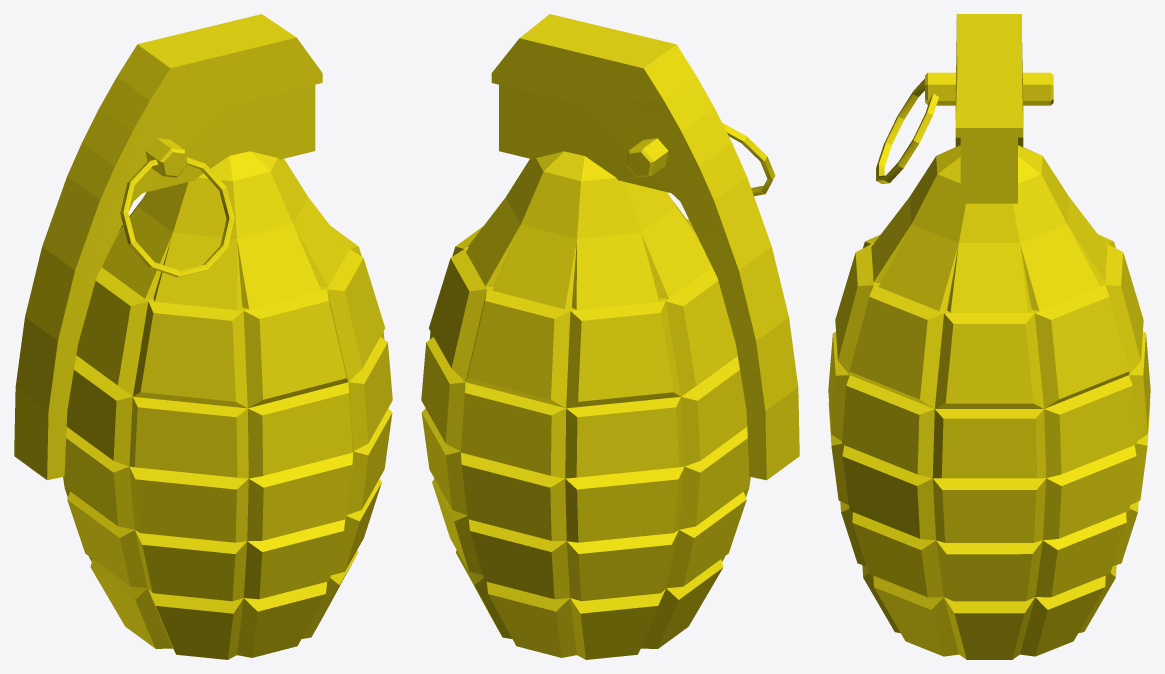
File: Grenade.glb
3 renders of one model, left to right at view 1: azimuth 30°, elevation 25°; view 2: azimuth 150°, elevation 25°; view 3: azimuth 270°, elevation 25°, orthographic.
Parts seen in each view (by area): view 1: SubMesh_0_Diffuse_palette_2_0, SubMesh_0_001_Diffuse_palette_2_0, SubMesh_0_002_Diffuse_palette_2_0; view 2: SubMesh_0_Diffuse_palette_2_0, SubMesh_0_001_Diffuse_palette_2_0, SubMesh_0_002_Diffuse_palette_2_0; view 3: SubMesh_0_Diffuse_palette_2_0, SubMesh_0_001_Diffuse_palette_2_0, SubMesh_0_002_Diffuse_palette_2_0.
Part boxes in pixels (bbox=[...]): SubMesh_0_Diffuse_palette_2_0: bbox=[63, 151, 392, 659]; SubMesh_0_001_Diffuse_palette_2_0: bbox=[14, 14, 322, 480]; SubMesh_0_002_Diffuse_palette_2_0: bbox=[120, 138, 234, 277]; SubMesh_0_Diffuse_palette_2_0: bbox=[421, 151, 750, 659]; SubMesh_0_001_Diffuse_palette_2_0: bbox=[491, 14, 799, 480]; SubMesh_0_002_Diffuse_palette_2_0: bbox=[626, 123, 775, 196]; SubMesh_0_Diffuse_palette_2_0: bbox=[828, 145, 1150, 659]; SubMesh_0_001_Diffuse_palette_2_0: bbox=[955, 14, 1023, 203]; SubMesh_0_002_Diffuse_palette_2_0: bbox=[876, 72, 1053, 183].
Size of the model in its own units: 1.37 by 2.28 by 1.16.
